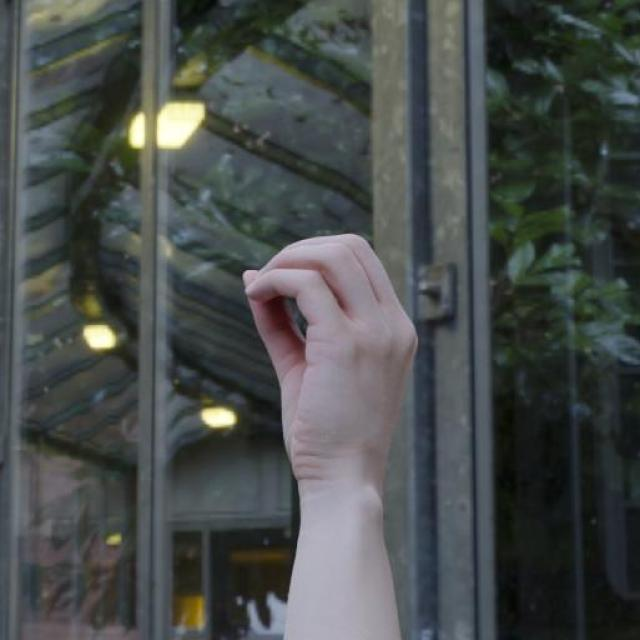O: (229, 191, 433, 519)
